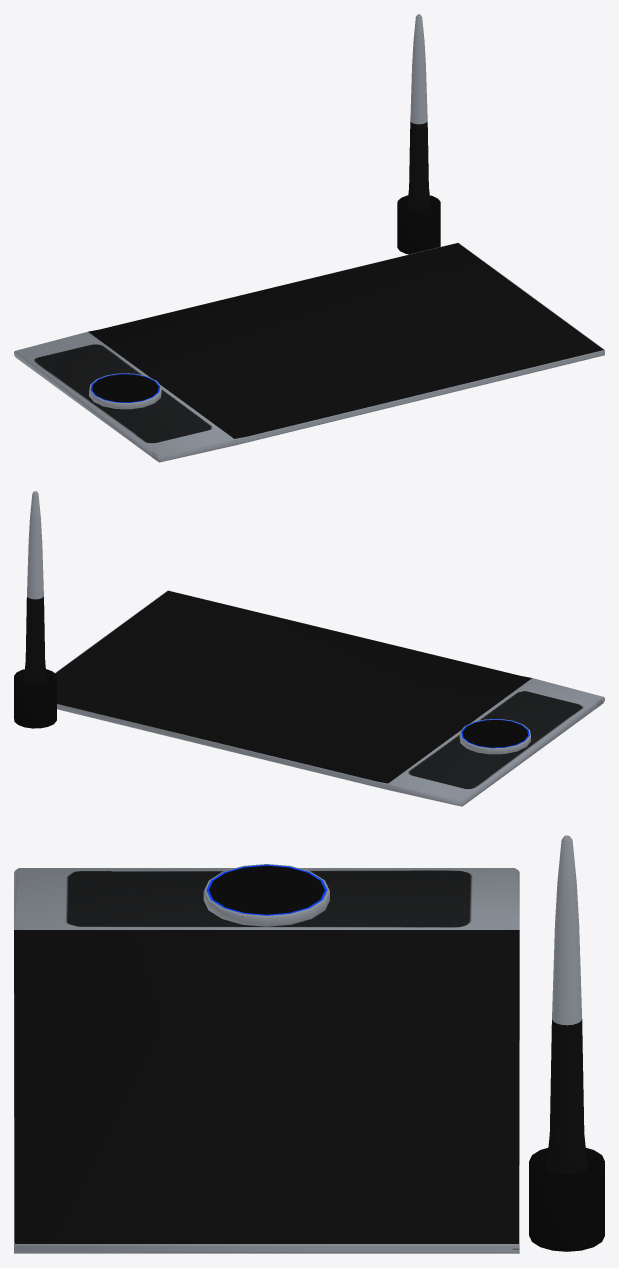
Rendered from Tablet.gltf.
3 views of the same model, one above another, from view 1: azimuth 30°, elevation 25°; view 2: azimuth 150°, elevation 25°; view 3: azimuth 270°, elevation 25° (orthographic). The views are drawn at different scales.
Parts seen in each view (by area): view 1: Tablet; view 2: Tablet; view 3: Tablet.
Boxes of the visible parts, x1,y1,x2,y2 form: Tablet: (14,14,604,462); Tablet: (14,491,604,806); Tablet: (14,835,604,1253).
Size of the model in its own units: 0.35 by 0.1744 by 0.2337.
Materials: 1 (1 with a texture image).
